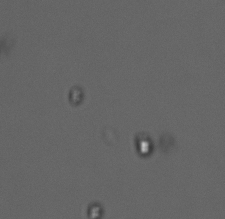Dead Cell: (67, 86, 83, 105), (85, 203, 104, 218)
Living Cell: (135, 135, 153, 158)
